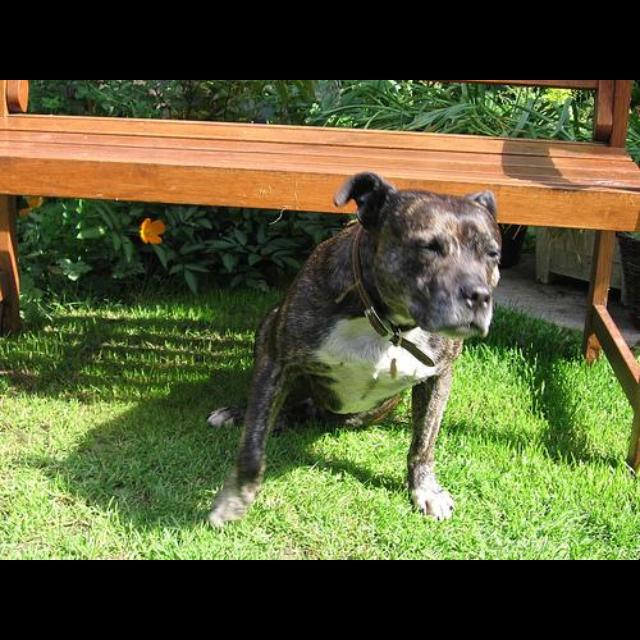amstaff: (206, 171, 502, 529)
